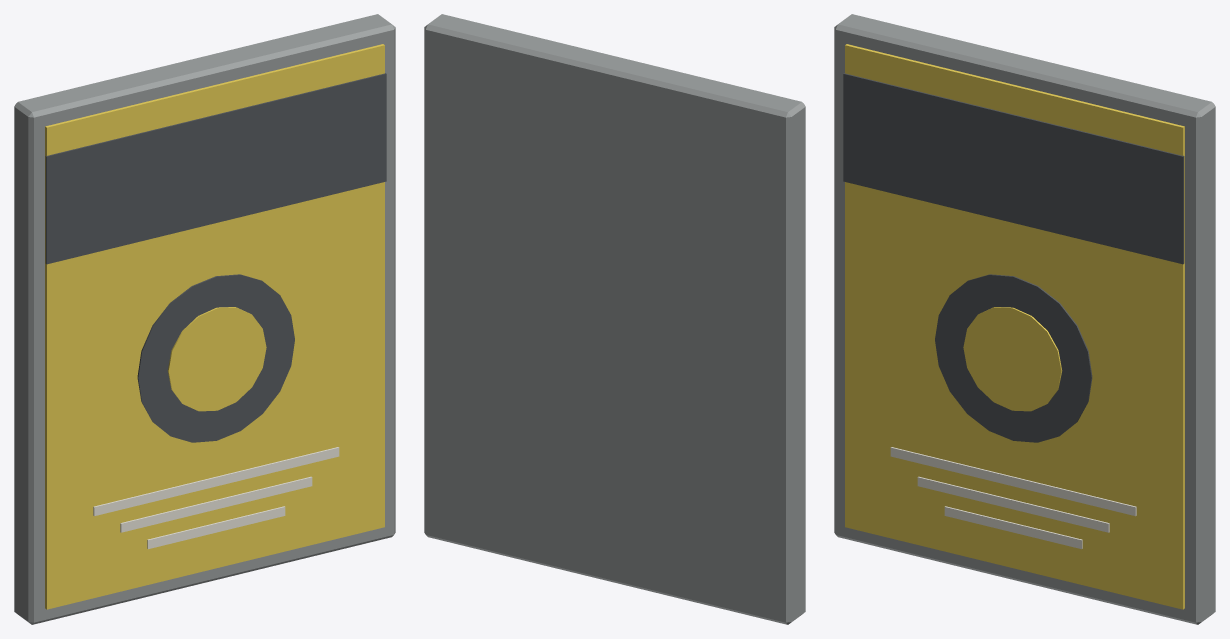
The model's file is an_poster_c.glb.
The picture shows the model from 3 angles, left to right: view 1: azimuth 30°, elevation 25°; view 2: azimuth 150°, elevation 25°; view 3: azimuth 330°, elevation 25°; orthographic projection.
Parts seen in each view (by area): view 1: an_poster_c; view 2: an_poster_c; view 3: an_poster_c.
Part boxes in pixels (x1,y1,x2,y2): an_poster_c: (14, 14, 395, 624); an_poster_c: (424, 14, 805, 624); an_poster_c: (834, 14, 1215, 624).
Size of the model in its own units: 1.5 by 2 by 0.154.
